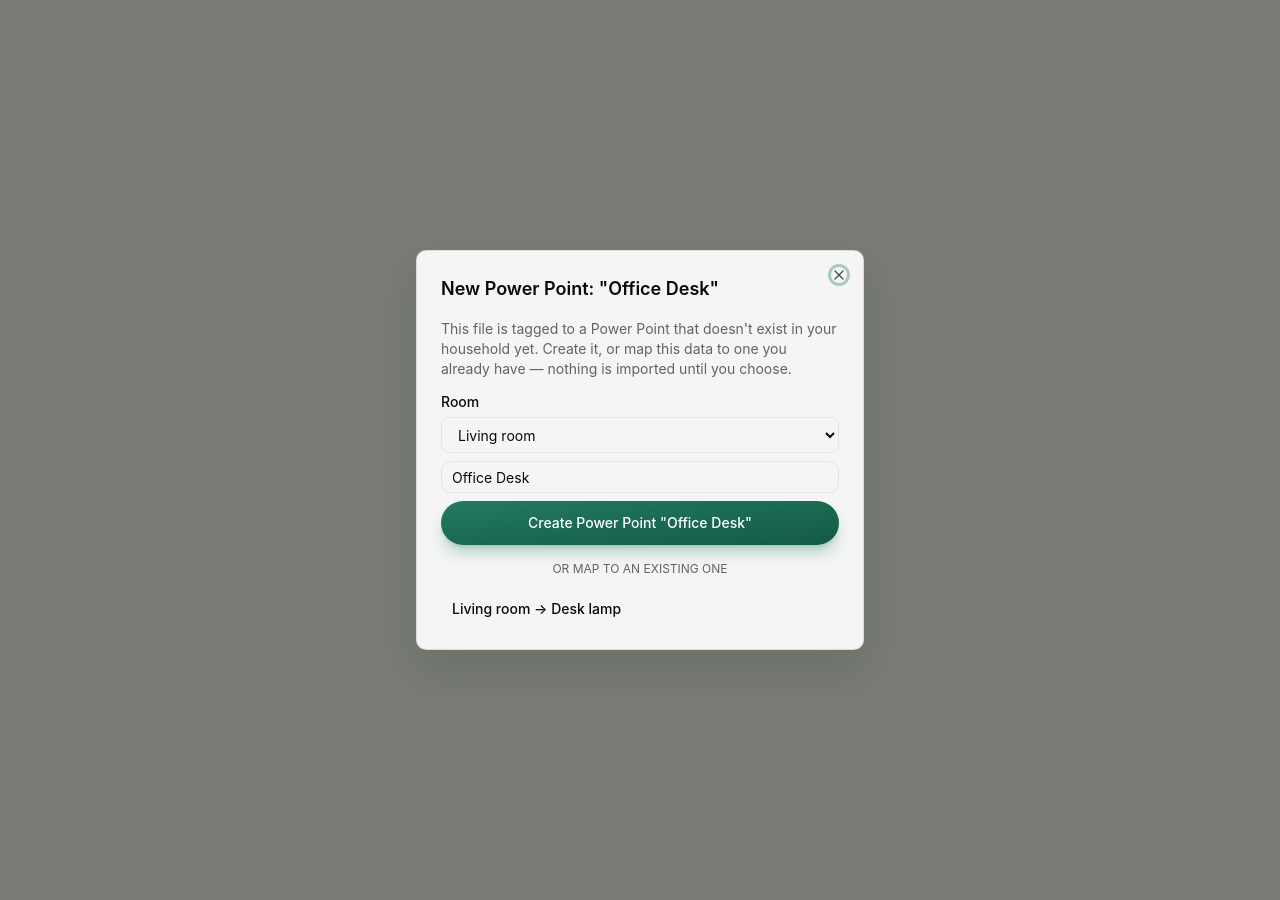
Test: PowerPointMappingDialog › surfaces a mapping error inline without closing the dialog
Click the button "Living room → Desk lamp" at (537, 608), box [441,593,839,625]
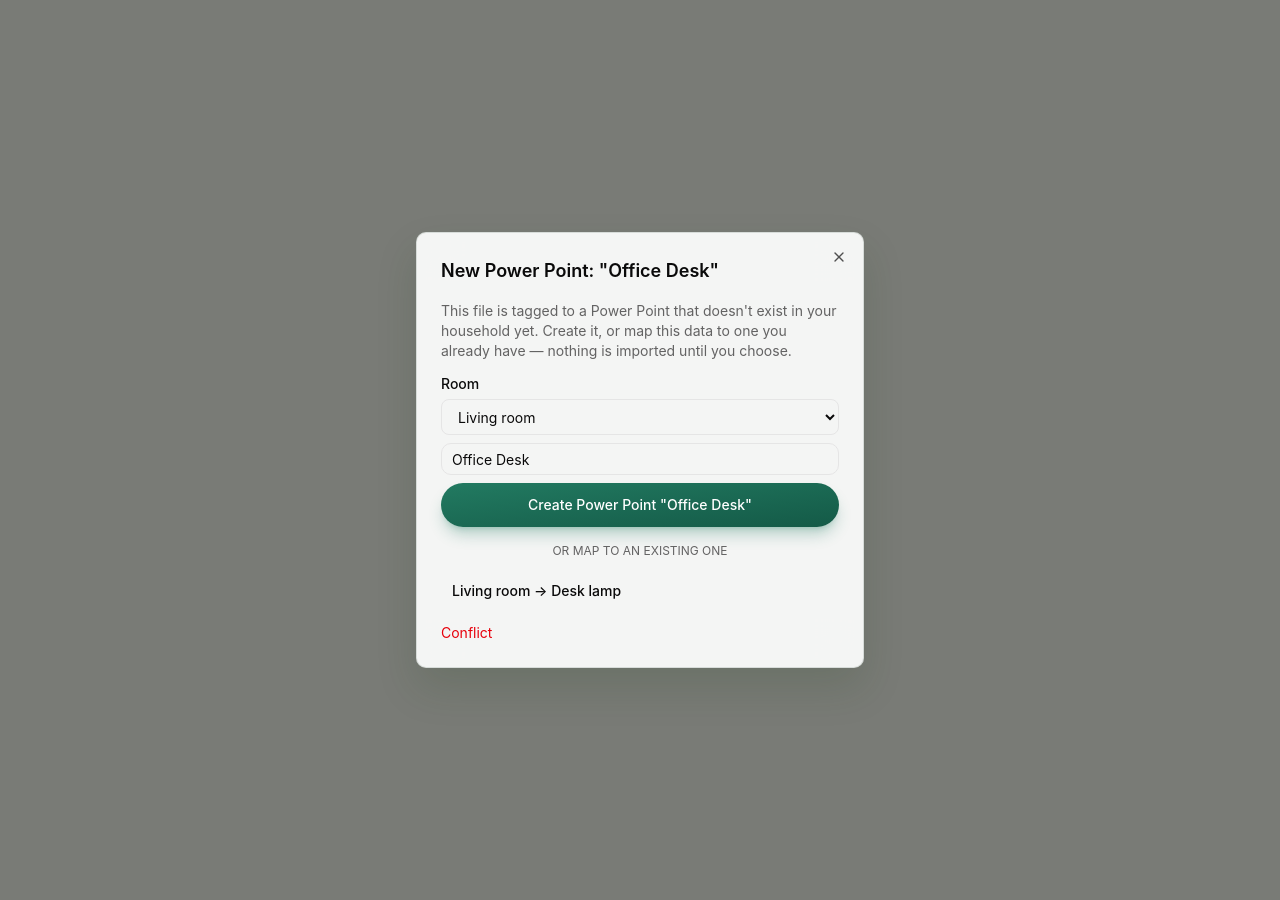
Check: the text "Conflict" is shown, box [441,624,492,641]
